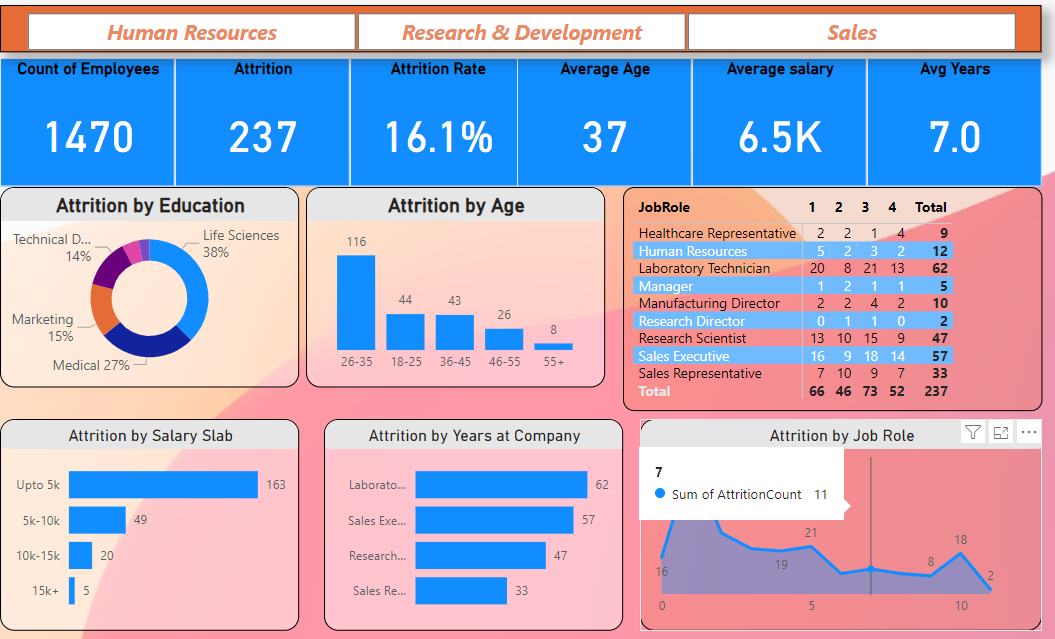

Layout of this report page (visuals, bound fields, positions):
{"tool":"powerbi","page":{"name":"Page 1","canvas":[1280,720],"ordinal":0},"visuals":[{"type":"card","title":"Count of Employees","fields":{"Values":["CountNonNull(HR_Analytics.EmpID)"]},"box":[62.2,87.5,170.2,125.5],"z":0},{"type":"card","title":"Attrition Rate","fields":{"Values":["HR_Analytics.AttritionRate"]},"box":[402.7,87.5,170.2,125.5],"z":1000},{"type":"card","title":"Average Age","fields":{"Values":["Avg(HR_Analytics.Age)"]},"box":[565.1,87.5,170.2,125.5],"z":2000},{"type":"card","title":"Attrition","fields":{"Values":["Sum(HR_Analytics.AttritionCount)"]},"box":[232.5,87.5,170.2,125.5],"z":3000},{"type":"card","title":"Avg Years","fields":{"Values":["Avg(HR_Analytics.YearsAtCompany)"]},"box":[905.5,87.5,170.2,125.5],"z":4000},{"type":"card","title":"Average salary","fields":{"Values":["Avg(HR_Analytics.MonthlyIncome)"]},"box":[735.3,87.5,170.2,125.5],"z":5000},{"type":"donutChart","title":"Attrition by Education","fields":{"Category":["HR_Analytics.EducationField"],"Y":["Sum(HR_Analytics.AttritionCount)"]},"box":[62.2,213,290.8,194.5],"z":6000},{"type":"columnChart","title":"Attrition by Age","fields":{"Category":["HR_Analytics.AgeGroup"],"Y":["Sum(HR_Analytics.AttritionCount)"]},"box":[359.9,213,290.8,194.5],"z":7000},{"type":"pivotTable","fields":{"Rows":["HR_Analytics.JobRole"],"Columns":["HR_Analytics.JobSatisfaction"],"Values":["Sum(HR_Analytics.AttritionCount)"]},"box":[668.2,213,407.5,217.9],"z":8000},{"type":"barChart","title":"Attrition by Salary Slab","fields":{"Category":["HR_Analytics.SalarySlab"],"Y":["Sum(HR_Analytics.AttritionCount)"]},"box":[62.2,438.7,290.8,206.2],"z":9000},{"type":"barChart","title":"Attrition by Years at Company","fields":{"Y":["Sum(HR_Analytics.AttritionCount)"],"Category":["HR_Analytics.JobRole"]},"box":[377.4,438.7,290.8,206.2],"z":10000},{"type":"areaChart","title":"Attrition by Job Role","fields":{"Category":["HR_Analytics.YearsAtCompany"],"Y":["Sum(HR_Analytics.AttritionCount)"]},"box":[684.7,438.7,391,206.2],"z":11000},{"type":"slicer","fields":{"Values":["HR_Analytics.Department"]},"box":[62.2,36,1013.5,45.7],"z":12000}]}

Visuals, with their boxes on the page's 1280x720 design canvas (x1, y1, x2, y2). These are canvas units, not pixel positions in the 1055x639 screenshot, which may show the page scaled, cropped or inside an application window:
"Count of Employees" card: 62 88 232 213
"Attrition Rate" card: 403 88 573 213
"Average Age" card: 565 88 735 213
"Attrition" card: 232 88 403 213
"Avg Years" card: 906 88 1076 213
"Average salary" card: 735 88 906 213
"Attrition by Education" donutChart: 62 213 353 408
"Attrition by Age" columnChart: 360 213 651 408
pivotTable - HR_Analytics.JobRole x HR_Analytics.JobSatisfaction: 668 213 1076 431
"Attrition by Salary Slab" barChart: 62 439 353 645
"Attrition by Years at Company" barChart: 377 439 668 645
"Attrition by Job Role" areaChart: 685 439 1076 645
slicer - HR_Analytics.Department: 62 36 1076 82
